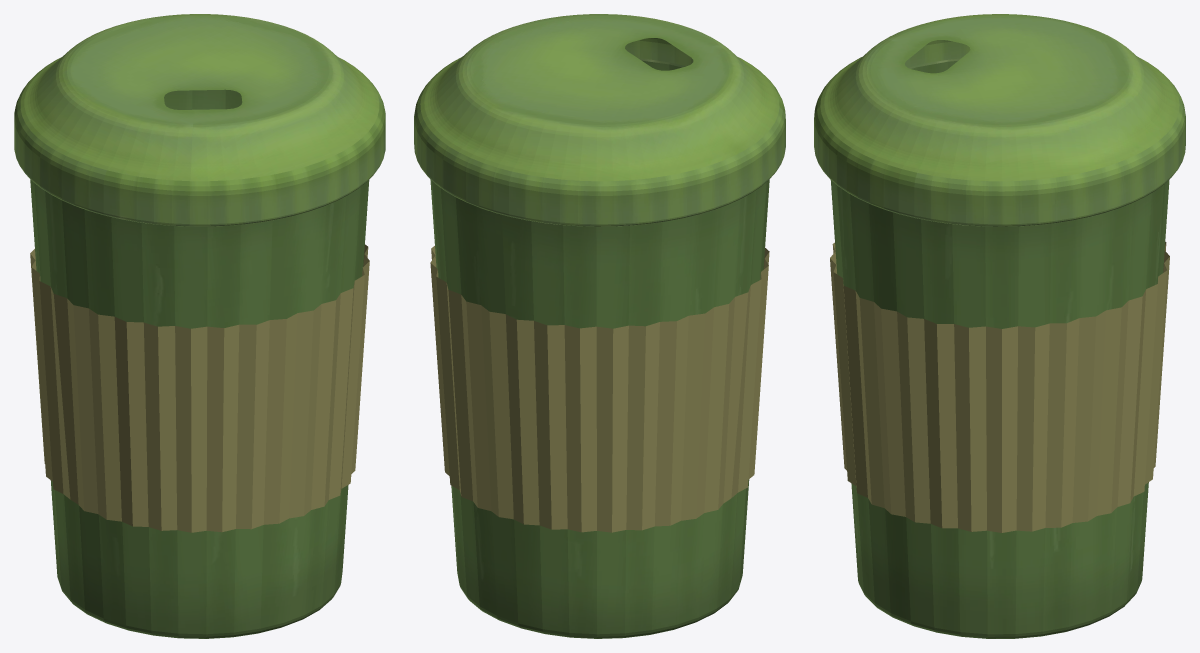
The model's file is termo.glb.
3 renders of one model, left to right at view 1: azimuth 30°, elevation 25°; view 2: azimuth 150°, elevation 25°; view 3: azimuth 270°, elevation 25°, orthographic.
Visible parts, largest first — view 1: Cylinder.001; view 2: Cylinder.001; view 3: Cylinder.001.
Boxes of the visible parts, x1,y1,x2,y2 form: Cylinder.001: (14, 14, 385, 638); Cylinder.001: (414, 14, 785, 638); Cylinder.001: (814, 14, 1185, 638).
Bounding box in the file's own units: 1.2 × 1.83 × 1.2.
3 materials, 2 textured.
